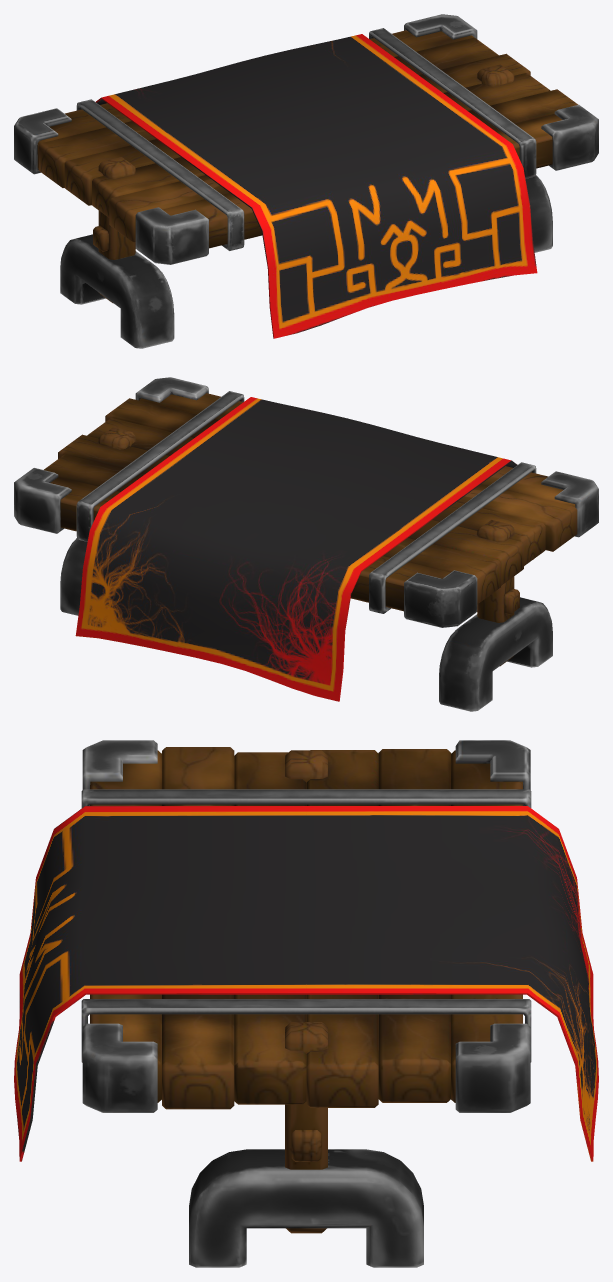
Rendered from Table.fbx.
The picture shows the model from 3 angles, top to bottom: view 1: azimuth 30°, elevation 25°; view 2: azimuth 150°, elevation 25°; view 3: azimuth 270°, elevation 25°; orthographic projection. The views are drawn at different scales.
Parts seen in each view (by area): view 1: towel, table; view 2: towel, table; view 3: towel, table.
Boxes of the visible parts, bbox=[...] form: towel: bbox=[96, 34, 537, 338]; table: bbox=[14, 14, 598, 348]; towel: bbox=[75, 397, 533, 701]; table: bbox=[14, 377, 598, 711]; towel: bbox=[14, 806, 598, 1161]; table: bbox=[81, 740, 531, 1267].
Size of the model in its own units: 4.19 by 1.36 by 3.21.
Materials: 1 (1 with a texture image).
